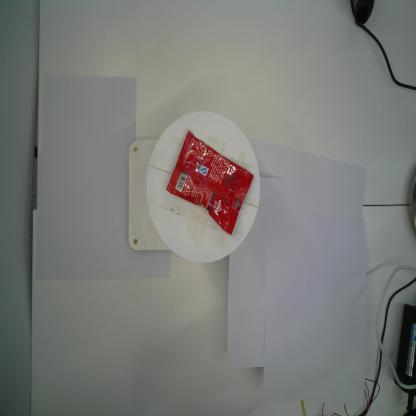Instant Drink: (165, 128, 254, 236)
